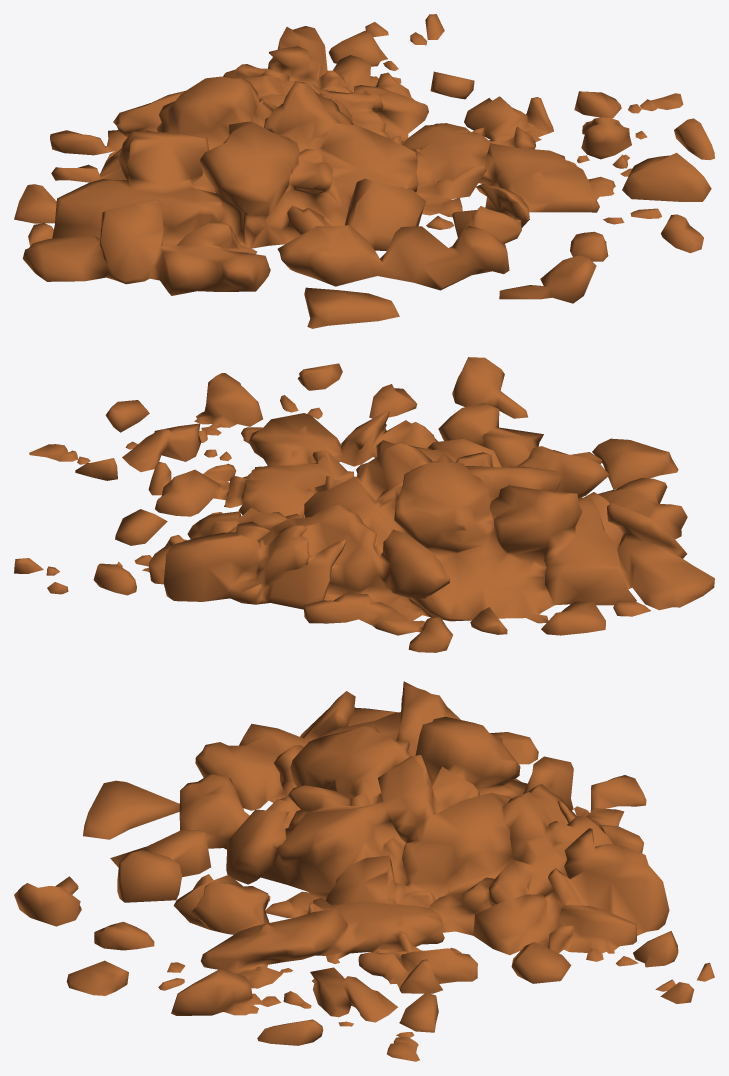
Rendered from MSH_Rock_Many_05.FBX.
3 renders of one model, top to bottom at view 1: azimuth 30°, elevation 25°; view 2: azimuth 150°, elevation 25°; view 3: azimuth 270°, elevation 25°, orthographic. The views are drawn at different scales.
Parts seen in each view (by area): view 1: MESH_LOD0; view 2: MESH_LOD0; view 3: MESH_LOD0.
Part boxes in pixels (<box>): MESH_LOD0: <box>14,14,714,328</box>; MESH_LOD0: <box>14,357,714,652</box>; MESH_LOD0: <box>14,681,714,1061</box>.
Size of what is drawn, in the model's own units: 184 by 27.82 by 158.
